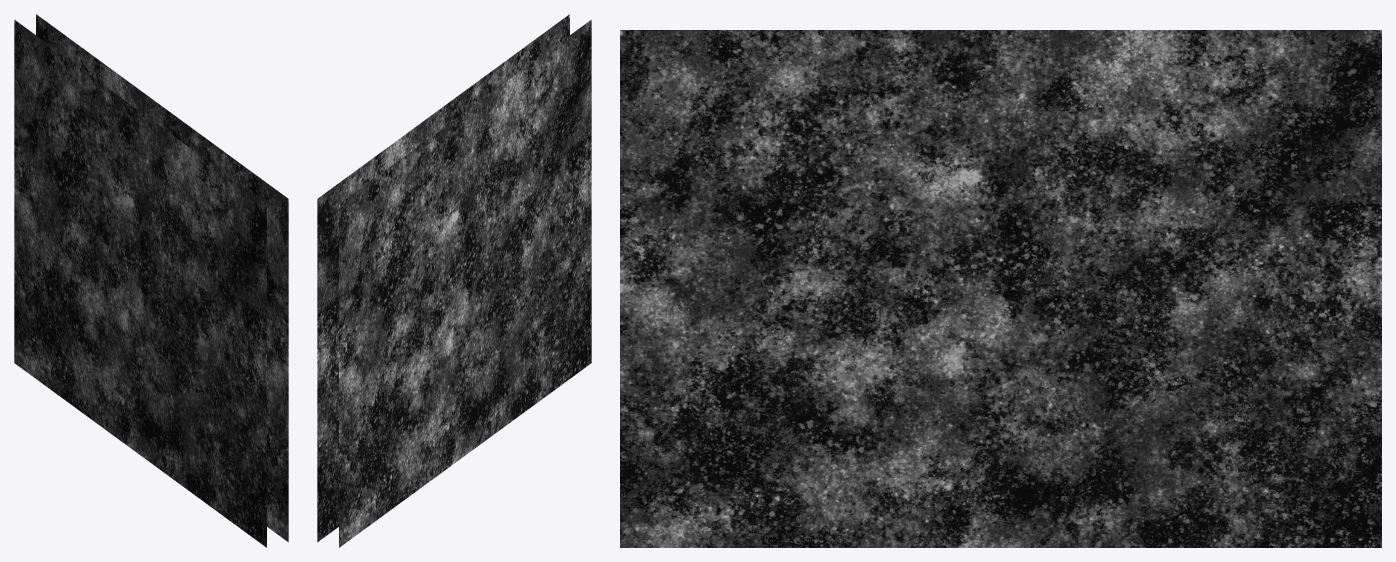
File: SM_Wall_4x3m_01.fbx
The picture shows the model from 3 angles, left to right: view 1: azimuth 30°, elevation 25°; view 2: azimuth 150°, elevation 25°; view 3: azimuth 270°, elevation 25°; orthographic projection. The views are drawn at different scales.
Parts seen in each view (by area): view 1: SM_Wall_4x3m_01_LOD0; view 2: SM_Wall_4x3m_01_LOD0; view 3: SM_Wall_4x3m_01_LOD0.
Boxes of the visible parts, x1,y1,x2,y2 form: SM_Wall_4x3m_01_LOD0: [14, 14, 288, 547]; SM_Wall_4x3m_01_LOD0: [317, 14, 591, 547]; SM_Wall_4x3m_01_LOD0: [620, 30, 1381, 547].
Size of the model in its own units: 20 by 400 by 300.
1 material, 1 textured.
